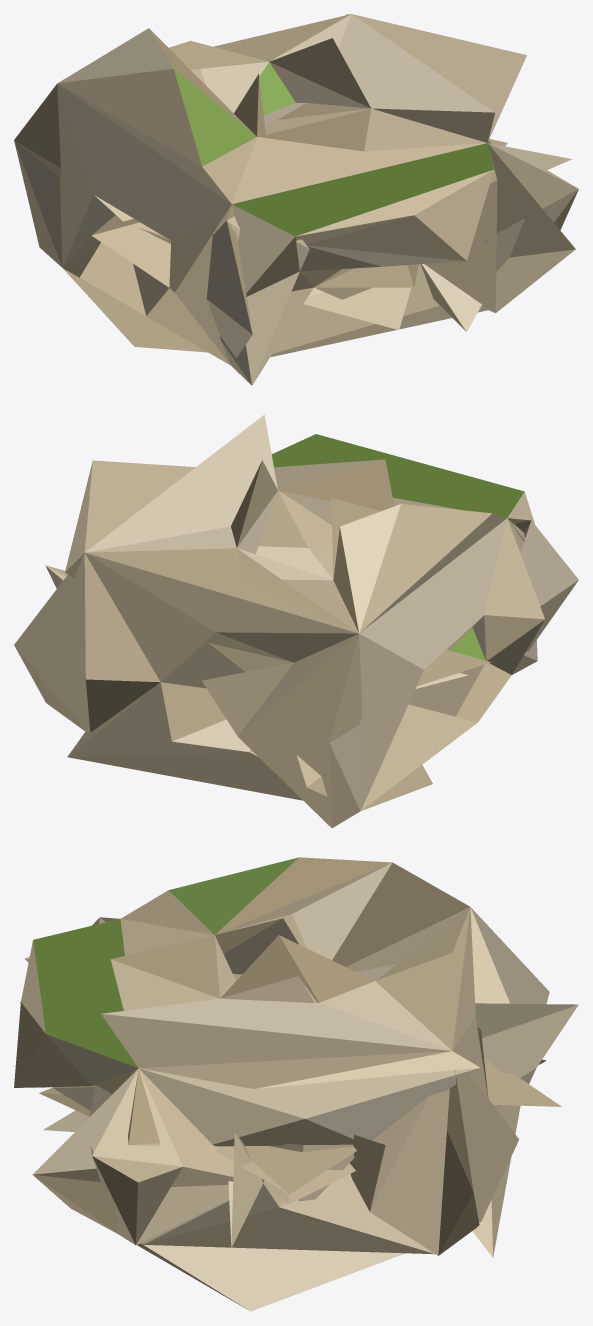
Rendered from ChunkLimestone_c.fbx.
The picture shows the model from 3 angles, top to bottom: view 1: azimuth 30°, elevation 25°; view 2: azimuth 150°, elevation 25°; view 3: azimuth 270°, elevation 25°; orthographic projection. The views are drawn at different scales.
Parts seen in each view (by area): view 1: ChunkLimestone_c; view 2: ChunkLimestone_c; view 3: ChunkLimestone_c.
Part boxes in pixels (<box>): ChunkLimestone_c: <box>14,14,578,385</box>; ChunkLimestone_c: <box>14,414,578,828</box>; ChunkLimestone_c: <box>14,857,578,1311</box>.
Size of what is drawn, in the model's own units: 0.4311 by 0.3022 by 0.466.
